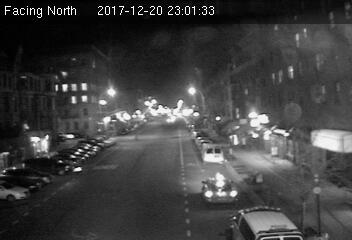car: (199, 173, 239, 206)
police: (231, 204, 302, 240)
truck: (201, 144, 224, 164)
